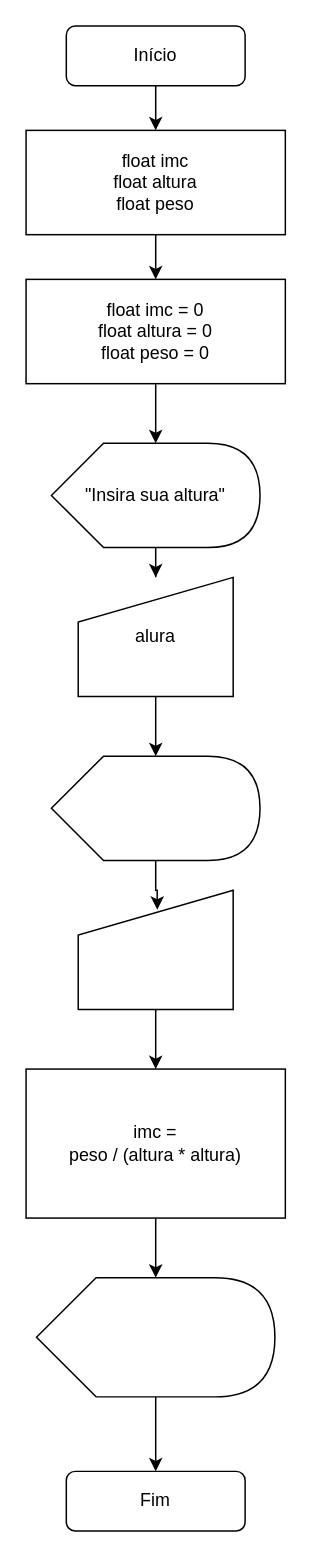
Image size: 311x1557. Some labels were removed from this diagram. The centre of each missing label's shape, as x and y in pixels:
"insira seu peso": point 155,807
"Seu IMC é " + imc: point 155,1336
peso: point 155,949
